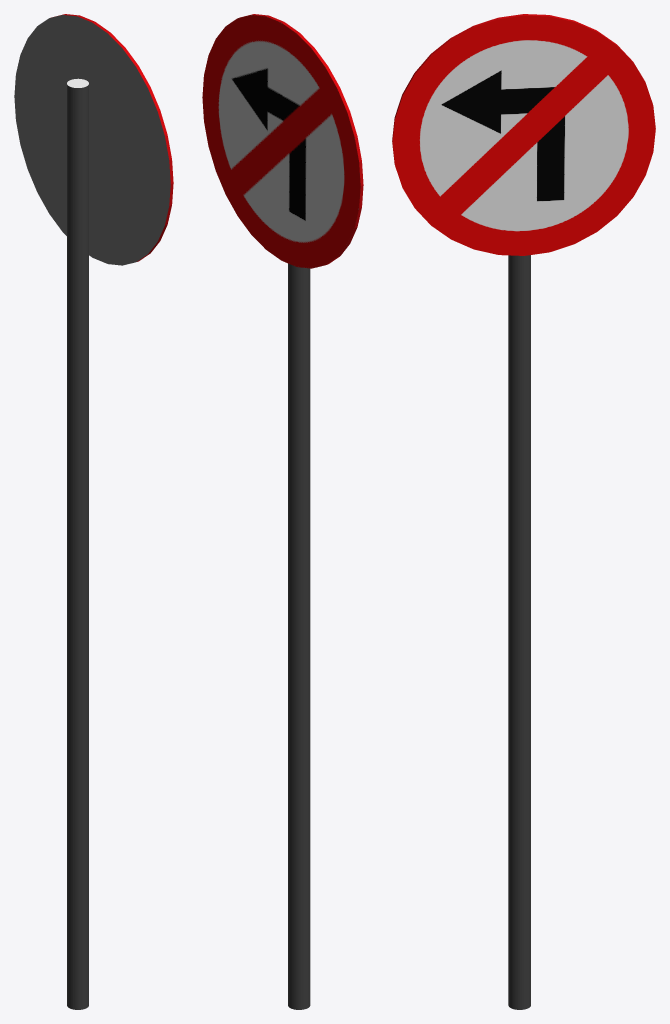
The model's file is SignNoLeftTurnWithPole.fbx.
The picture shows the model from 3 angles, left to right: view 1: azimuth 30°, elevation 25°; view 2: azimuth 210°, elevation 25°; view 3: azimuth 270°, elevation 25°; orthographic projection. The views are drawn at different scales.
Visible parts, largest first — view 1: SignNoLeftTurnWithPole; view 2: SignNoLeftTurnWithPole; view 3: SignNoLeftTurnWithPole.
Boxes of the visible parts, x1=… form: SignNoLeftTurnWithPole: x1=14, y1=14, x2=173, y2=1009; SignNoLeftTurnWithPole: x1=202, y1=14, x2=363, y2=1009; SignNoLeftTurnWithPole: x1=392, y1=14, x2=655, y2=1009.
Bounding box in the file's own units: 10.9 × 237 × 56.69.
